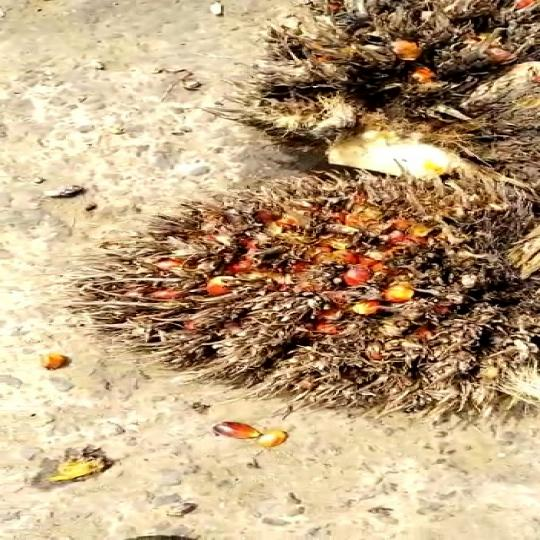terlalu masak: (88, 187, 540, 413)
